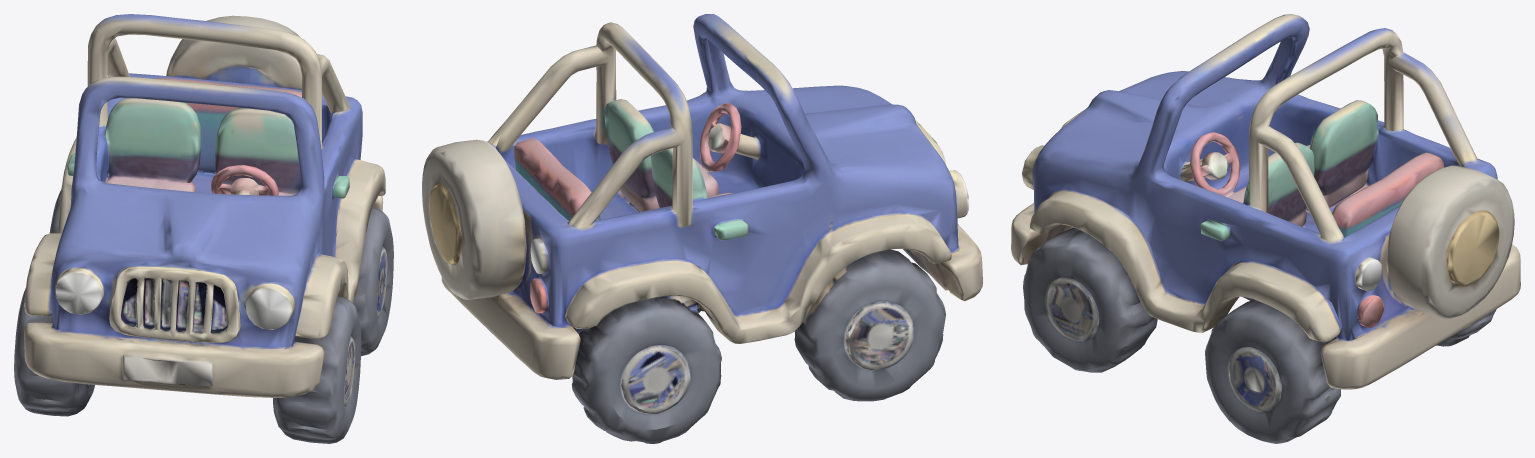
3 renders of one model, left to right at view 1: azimuth 30°, elevation 25°; view 2: azimuth 150°, elevation 25°; view 3: azimuth 270°, elevation 25°, orthographic. The views are drawn at different scales.
Visible parts, largest first — view 1: repaired; view 2: repaired; view 3: repaired.
Part boxes in pixels (box(x1,y1,x2,y2)): repaired: box(14, 14, 393, 443); repaired: box(422, 14, 982, 443); repaired: box(1011, 14, 1520, 443).
Size of the model in its own units: 0.9508 by 0.7014 by 0.9997.
Materials: 1 (1 with a texture image).
